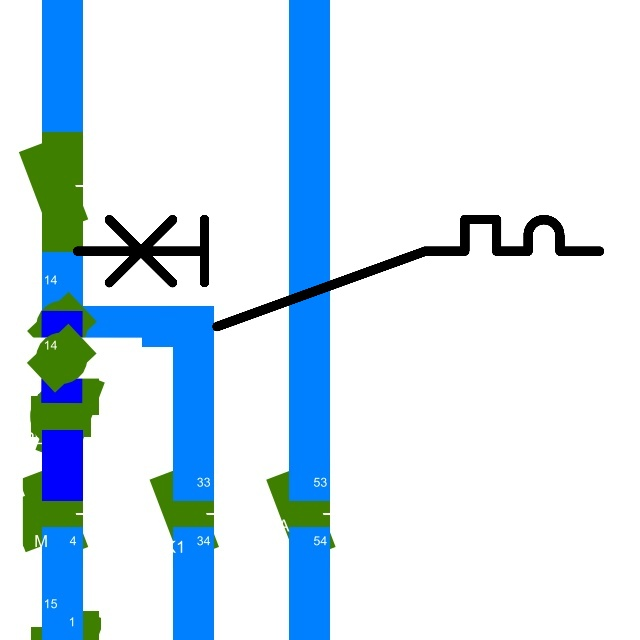interruptor_termomagnetico: (64, 206, 613, 340)
